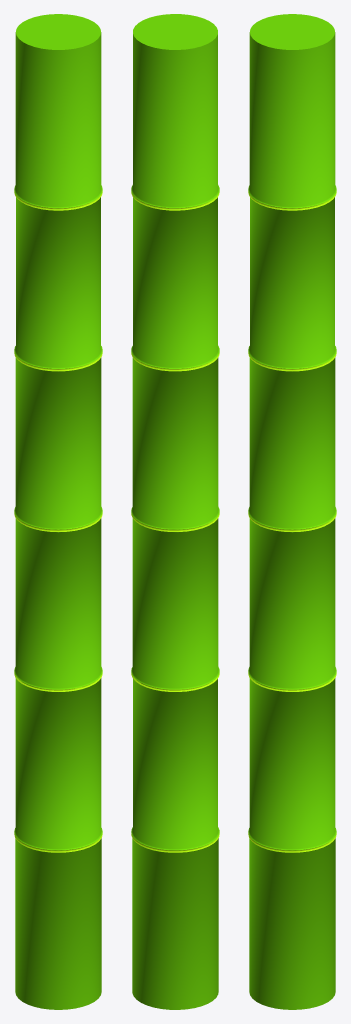
The model's file is Bambou.fbx.
3 renders of one model, left to right at view 1: azimuth 90°, elevation 25°; view 2: azimuth 150°, elevation 25°; view 3: azimuth 270°, elevation 25°, orthographic.
Visible parts, largest first — view 1: Cylinder; view 2: Cylinder; view 3: Cylinder.
Boxes of the visible parts, <box> form: Cylinder: <box>14,14,102,1009</box>; Cylinder: <box>131,14,219,1009</box>; Cylinder: <box>248,14,336,1009</box>.
Bounding box in the file's own units: 51.27 × 612 × 51.27.
